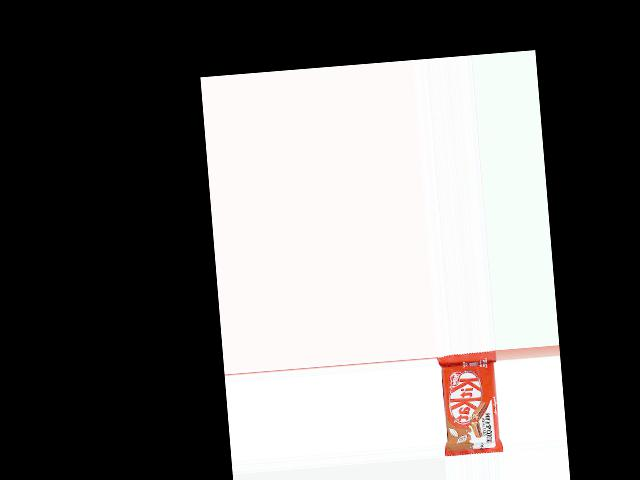chocolate: (436, 351, 504, 457)
